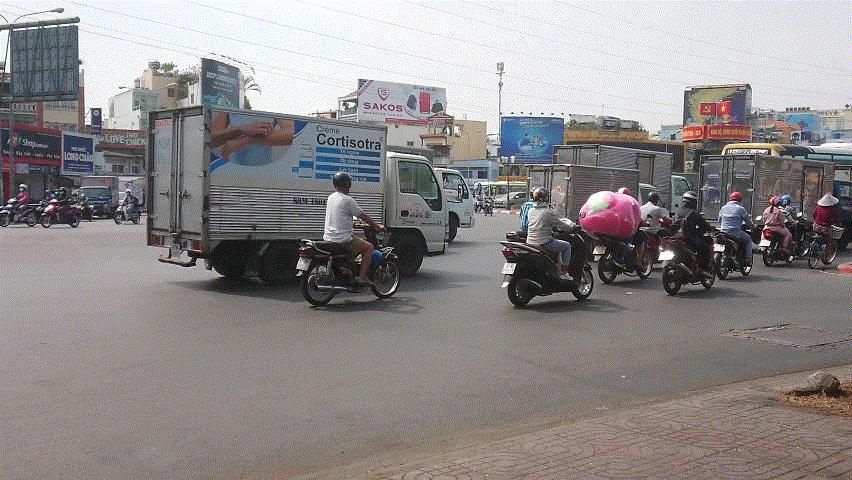bicyclist: (807, 194, 844, 270)
driver: (295, 171, 403, 306), (501, 187, 593, 306), (657, 191, 720, 294), (595, 187, 654, 286), (715, 192, 762, 280), (758, 194, 803, 268)
helmet: (333, 172, 353, 192), (532, 187, 550, 202), (682, 191, 698, 206), (647, 191, 661, 206), (769, 195, 781, 207), (781, 195, 792, 208), (729, 192, 742, 202)
no-helmet: (815, 193, 840, 208)
